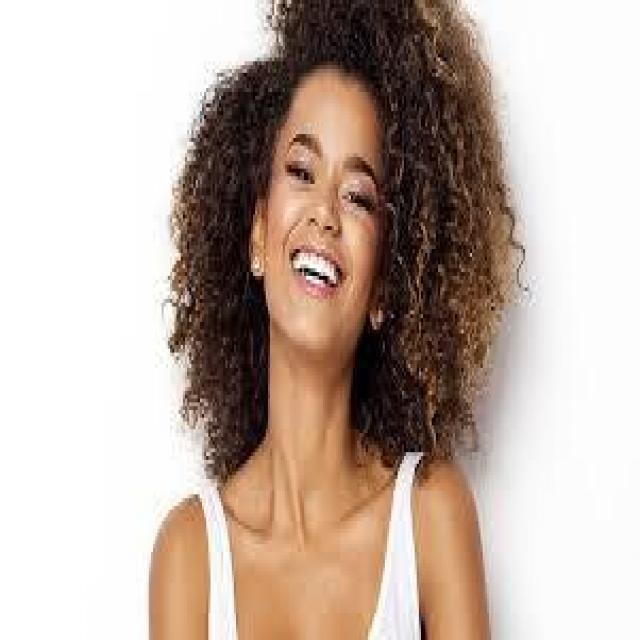person: (134, 0, 502, 636)
